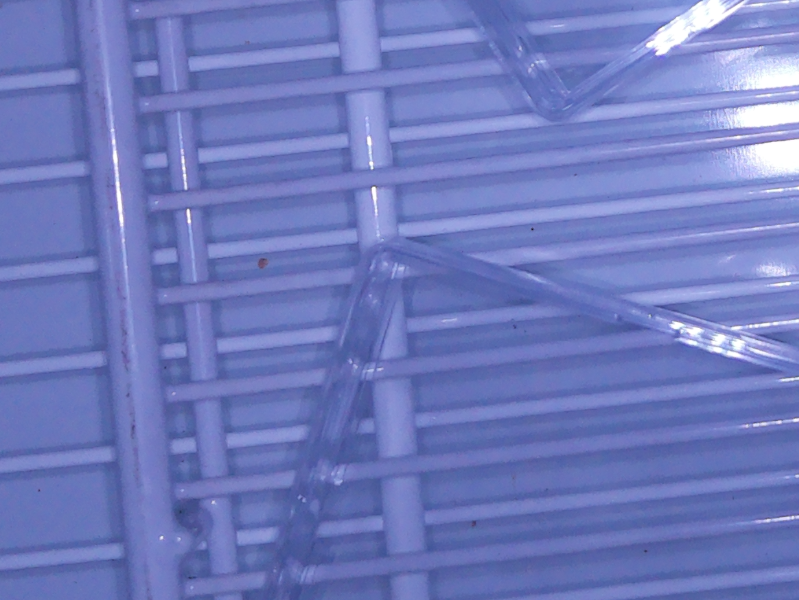plate: (263, 240, 799, 600), (460, 1, 742, 119)
